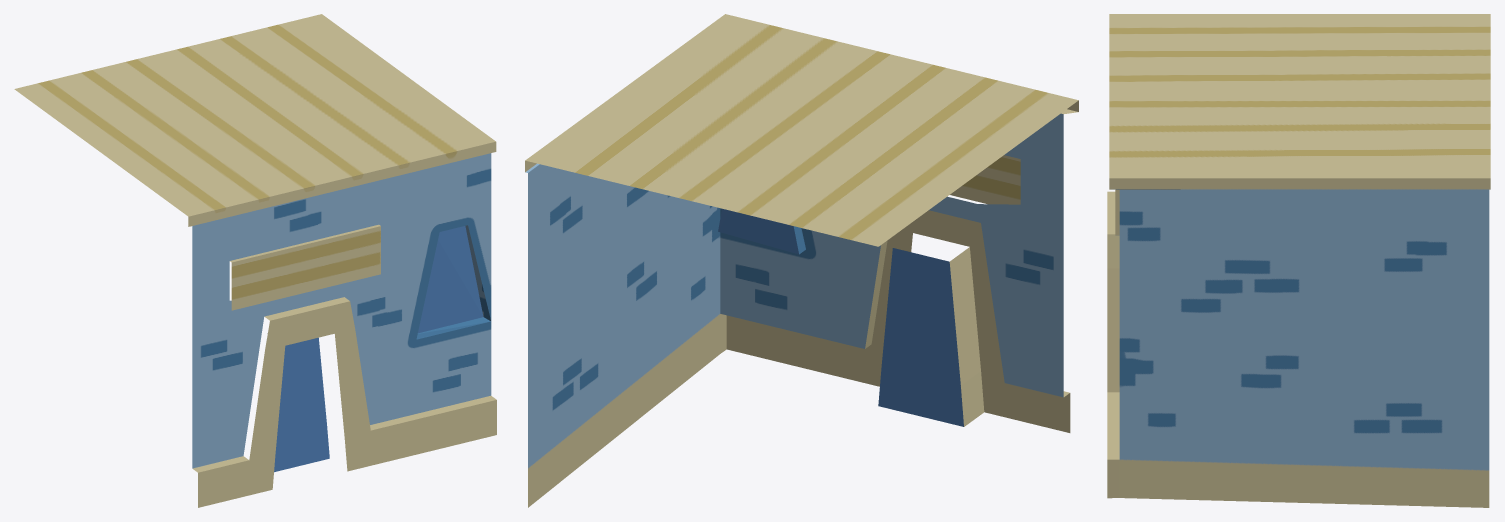
File: Building_R_2_Main.fbx
3 renders of one model, left to right at view 1: azimuth 30°, elevation 25°; view 2: azimuth 150°, elevation 25°; view 3: azimuth 270°, elevation 25°, orthographic. The views are drawn at different scales.
Parts seen in each view (by area): view 1: Building_R_2; view 2: Building_R_2; view 3: Building_R_2.
Boxes of the visible parts, x1,y1,x2,y2 form: Building_R_2: (14, 14, 496, 507); Building_R_2: (525, 14, 1078, 507); Building_R_2: (1107, 14, 1490, 507).
Bounding box in the file's own units: 412 × 386 × 406.
Materials: 1 (1 with a texture image).
